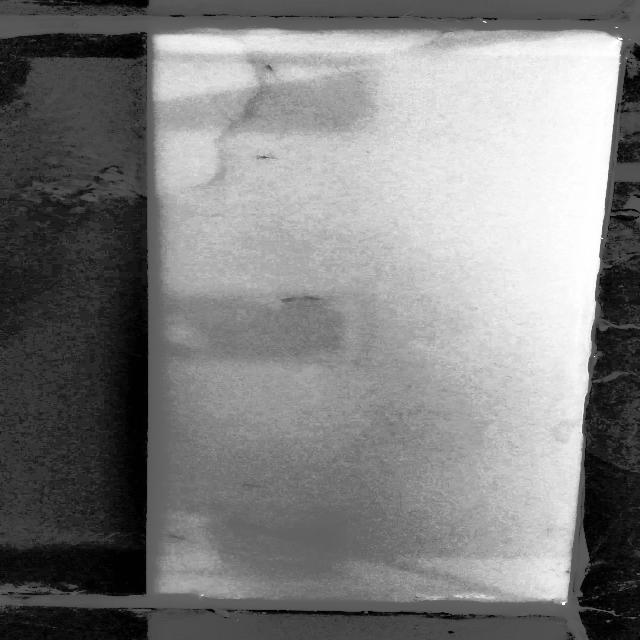shrimp: (277, 294, 306, 305), (239, 480, 269, 490), (164, 531, 190, 542), (301, 293, 327, 304), (263, 60, 281, 75), (252, 153, 280, 160)
